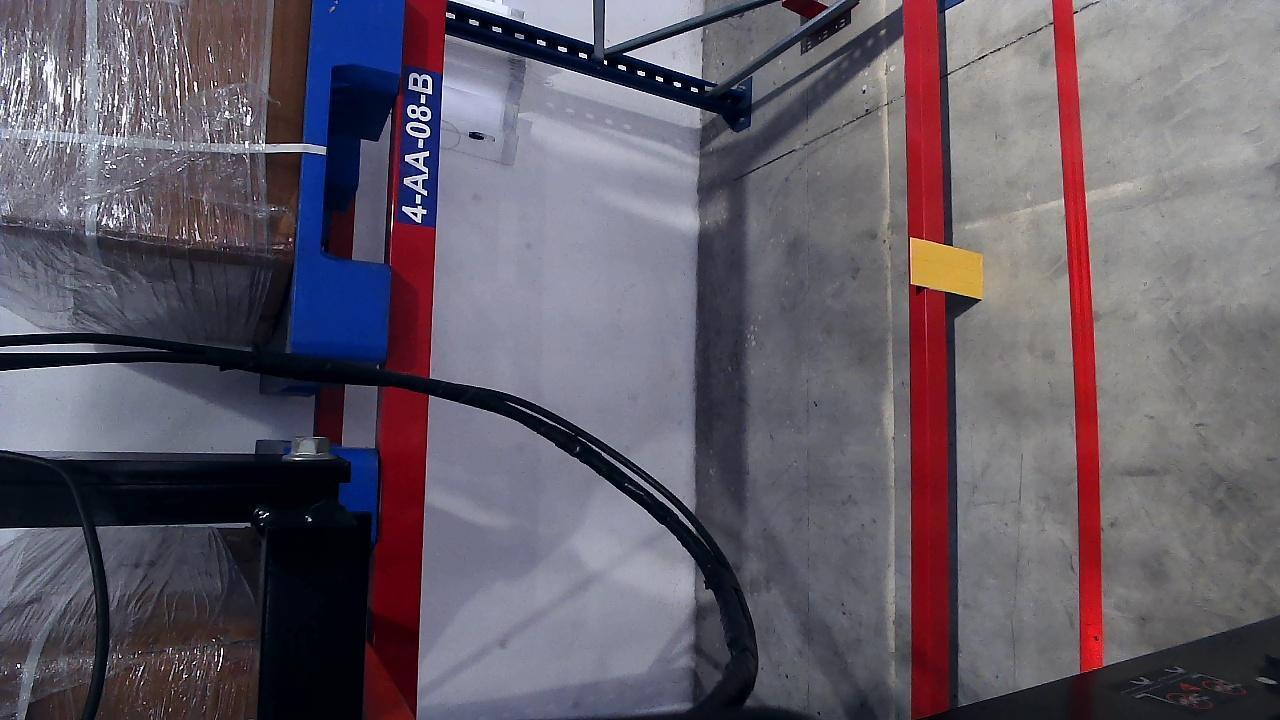red_line: (1049, 0, 1101, 670)
